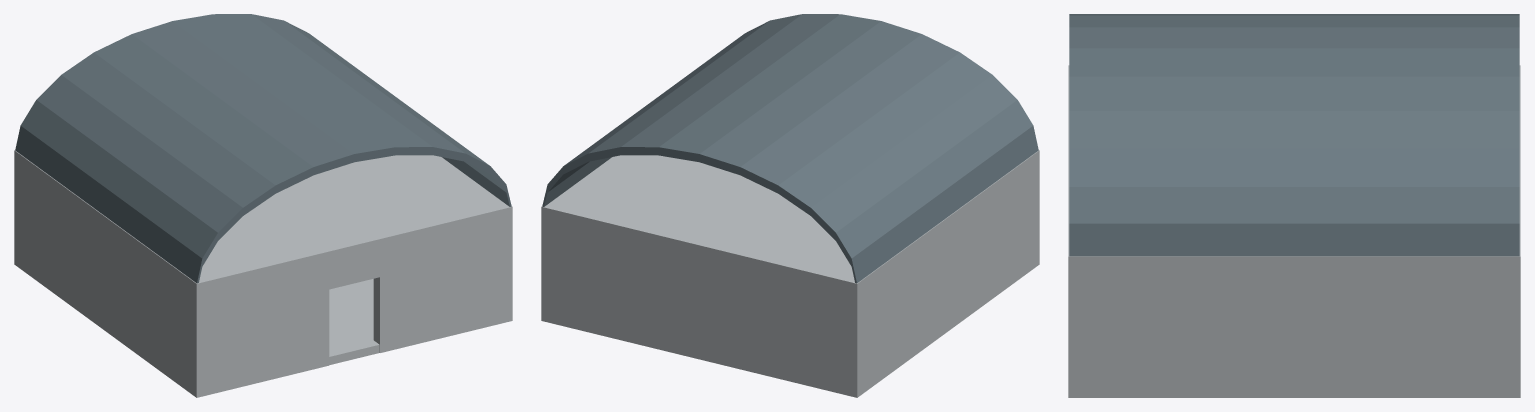
File: hangar_1_lod2.glb
3 views of the same model, side by side, from view 1: azimuth 30°, elevation 25°; view 2: azimuth 150°, elevation 25°; view 3: azimuth 270°, elevation 25° (orthographic). The views are drawn at different scales.
Visible parts, largest first — view 1: Roof shell baked, Wall_0 baked, Ceiling baked, Wall_3 baked, Floor baked, Wall_1 baked; view 2: Roof shell baked, Wall_1 baked, Ceiling baked, Wall_3 baked, Wall_0 baked; view 3: Roof shell baked, Wall_2 baked, Ceiling baked, Wall_0 baked, Wall_1 baked.
Boxes of the visible parts, x1,y1,x2,y2 form: Roof shell baked: (15, 14, 511, 283); Wall_0 baked: (190, 215, 512, 397); Ceiling baked: (14, 150, 512, 291); Wall_3 baked: (20, 163, 190, 392); Floor baked: (329, 279, 379, 364); Wall_1 baked: (14, 159, 20, 268); Roof shell baked: (542, 14, 1038, 283); Wall_1 baked: (541, 215, 863, 397); Ceiling baked: (541, 150, 1039, 291); Wall_3 baked: (863, 163, 1033, 392); Wall_0 baked: (1033, 159, 1039, 268); Roof shell baked: (1069, 14, 1519, 256); Wall_2 baked: (1084, 266, 1504, 397); Ceiling baked: (1068, 65, 1520, 266); Wall_0 baked: (1068, 266, 1084, 397); Wall_1 baked: (1504, 266, 1520, 397).
Size of the model in its own units: 10 by 6.2 by 10.
